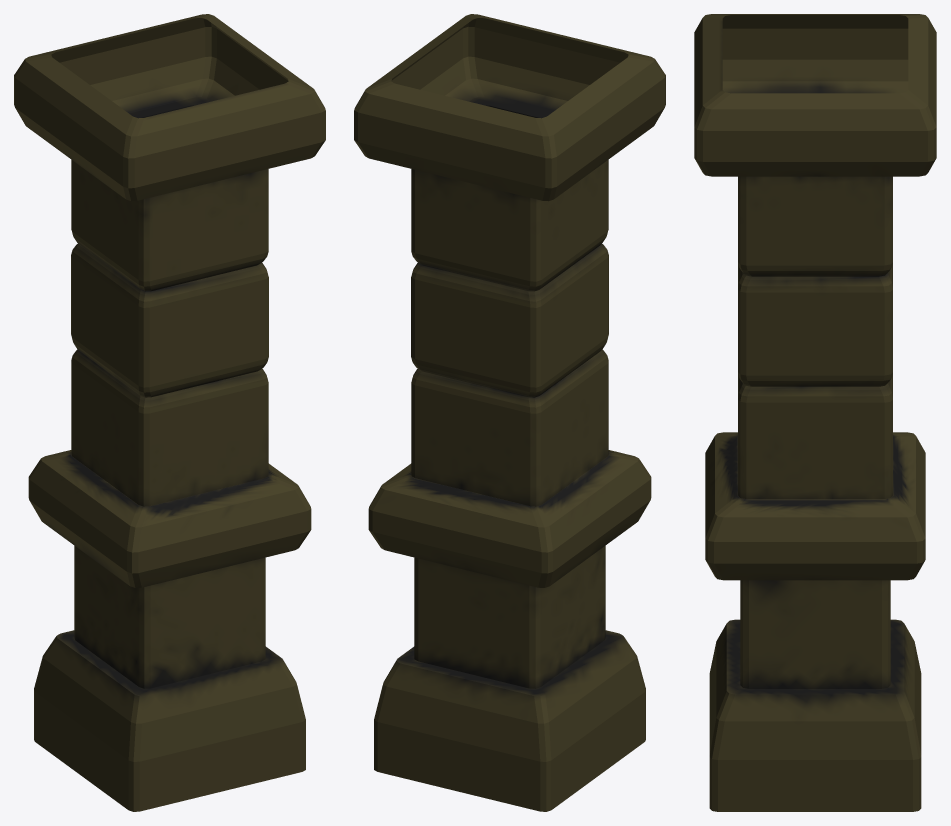
File: Pillar.fbx
3 views of the same model, side by side, from view 1: azimuth 30°, elevation 25°; view 2: azimuth 150°, elevation 25°; view 3: azimuth 270°, elevation 25° (orthographic). The views are drawn at different scales.
Visible parts, largest first — view 1: Pillar; view 2: Pillar; view 3: Pillar.
Part boxes in pixels (<box>): Pillar: <box>14,14,325,811</box>; Pillar: <box>354,14,665,811</box>; Pillar: <box>694,14,936,811</box>.
Bounding box in the file's own units: 256 × 831 × 256.
1 material, 1 textured.
